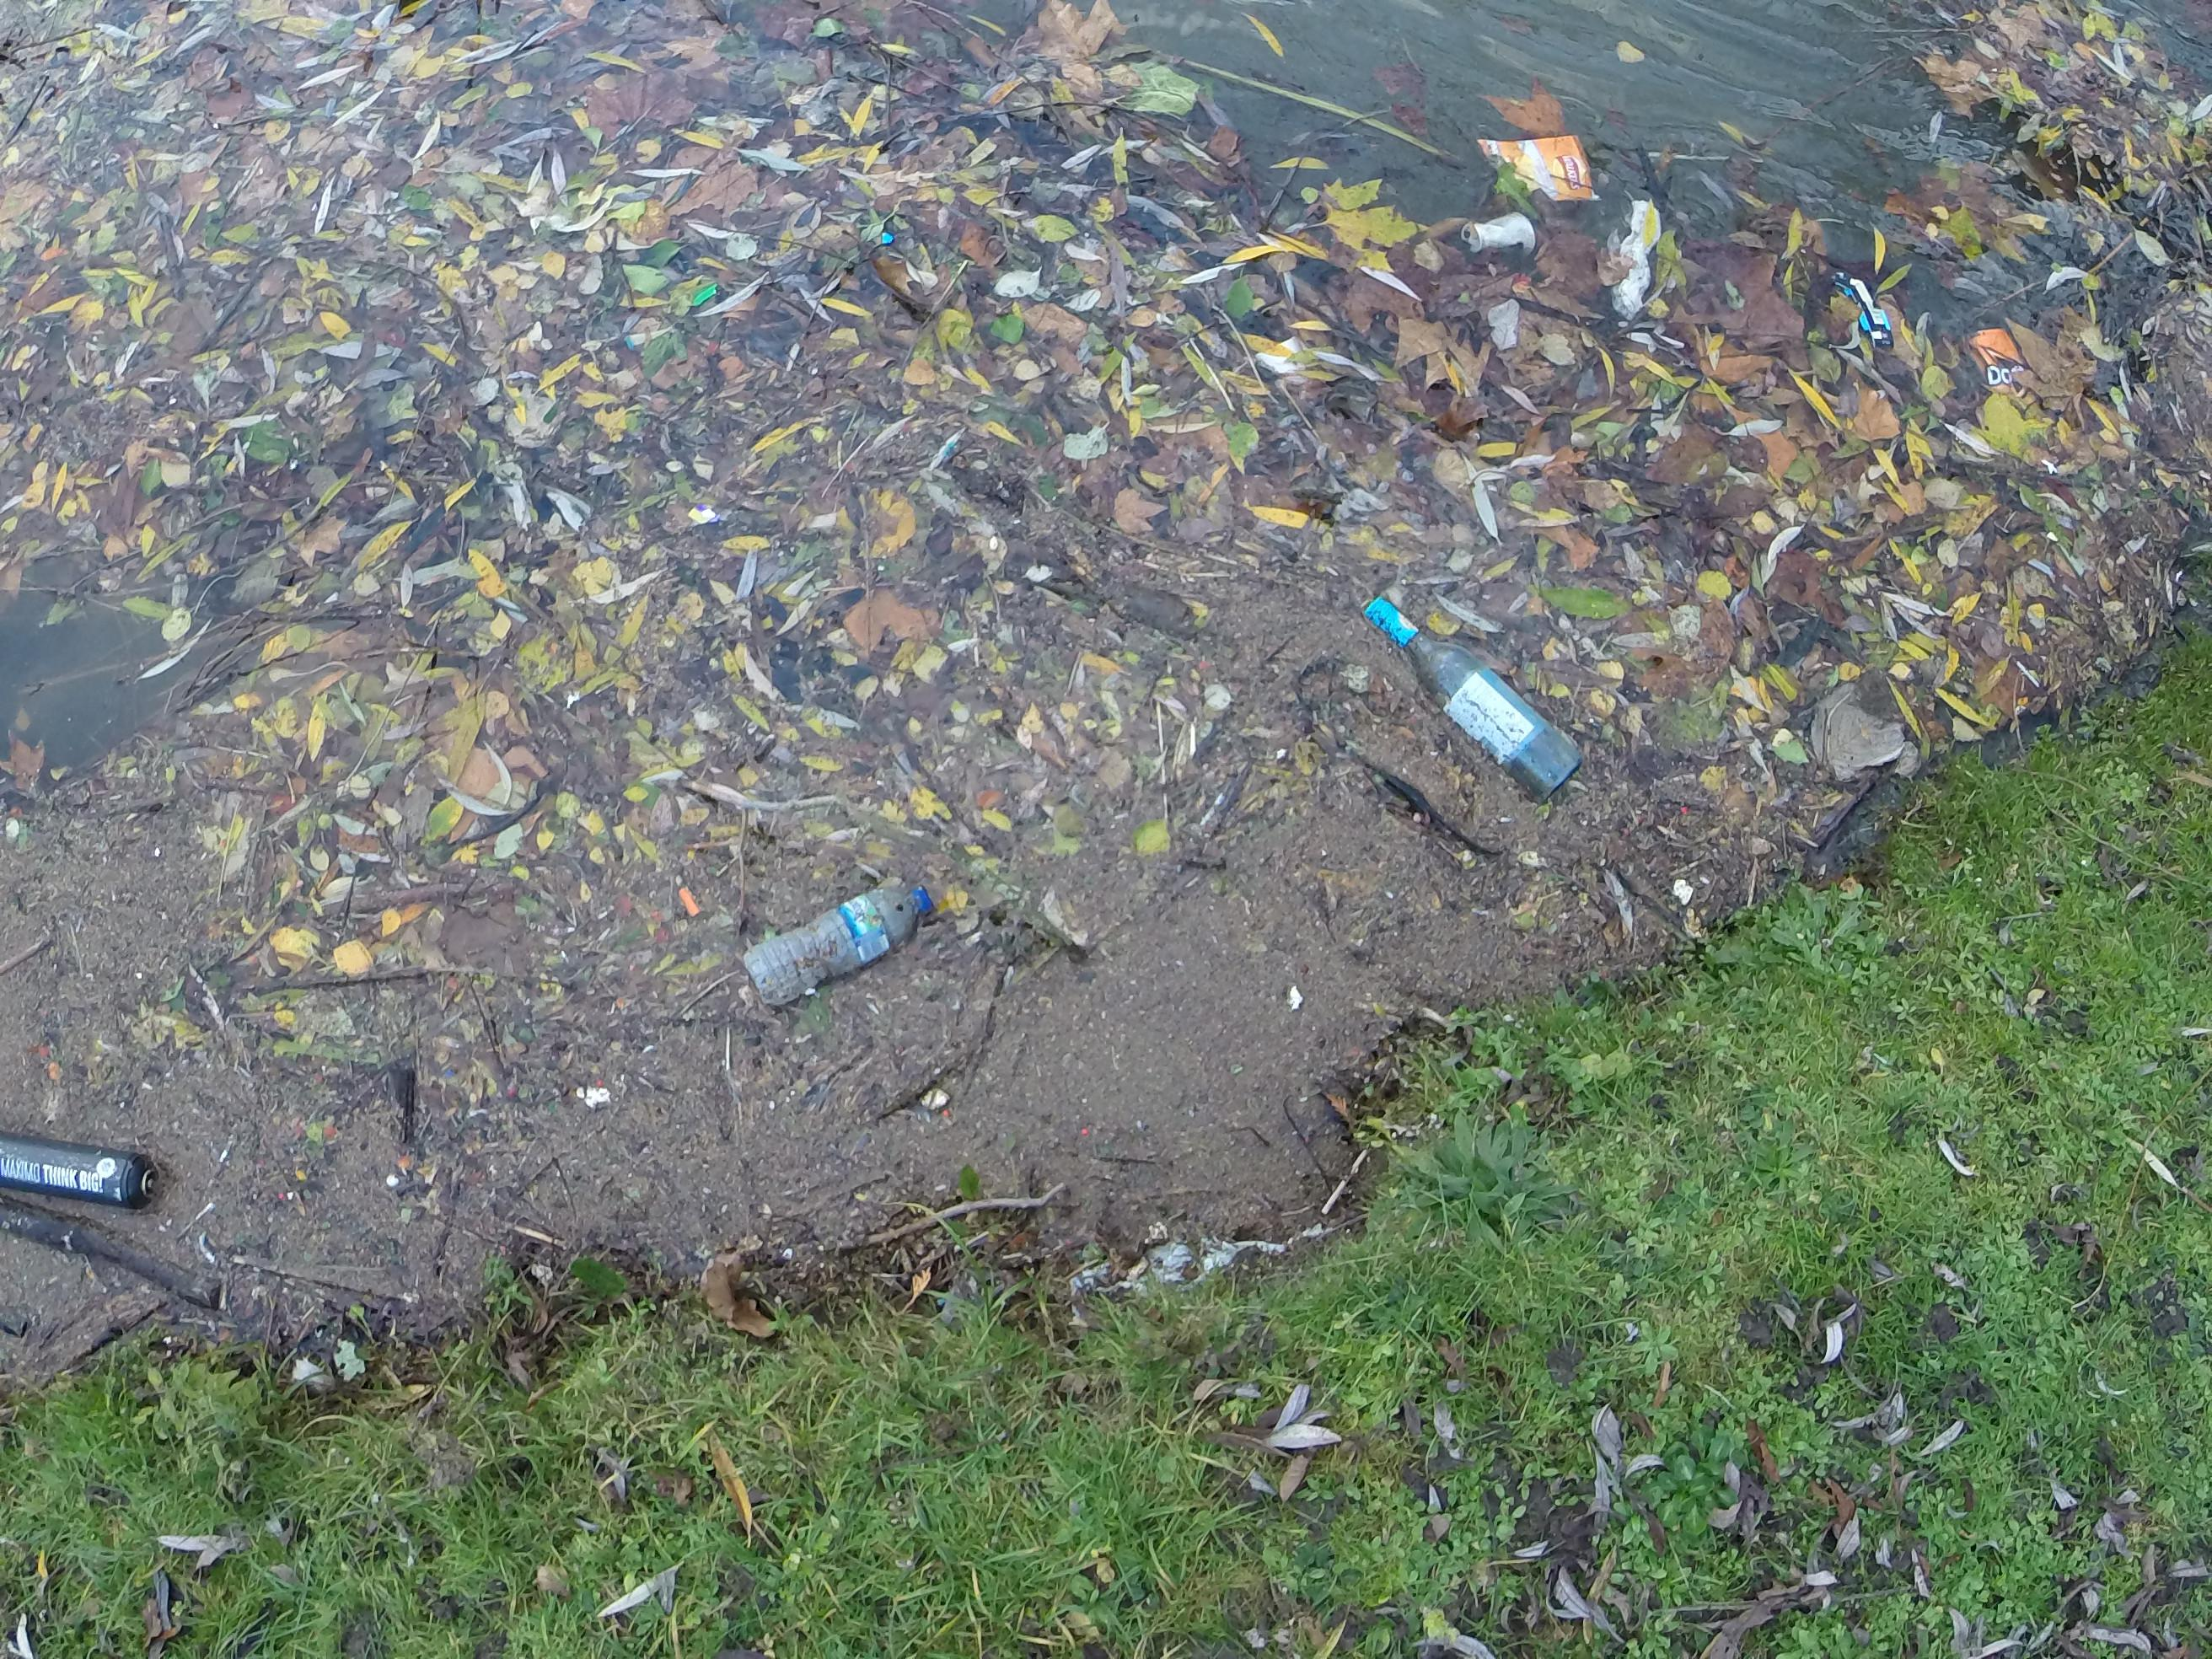Trash: (1362, 592, 1580, 793), (733, 868, 937, 1006), (0, 1136, 162, 1211), (1467, 131, 1601, 213), (1839, 267, 1900, 361)
